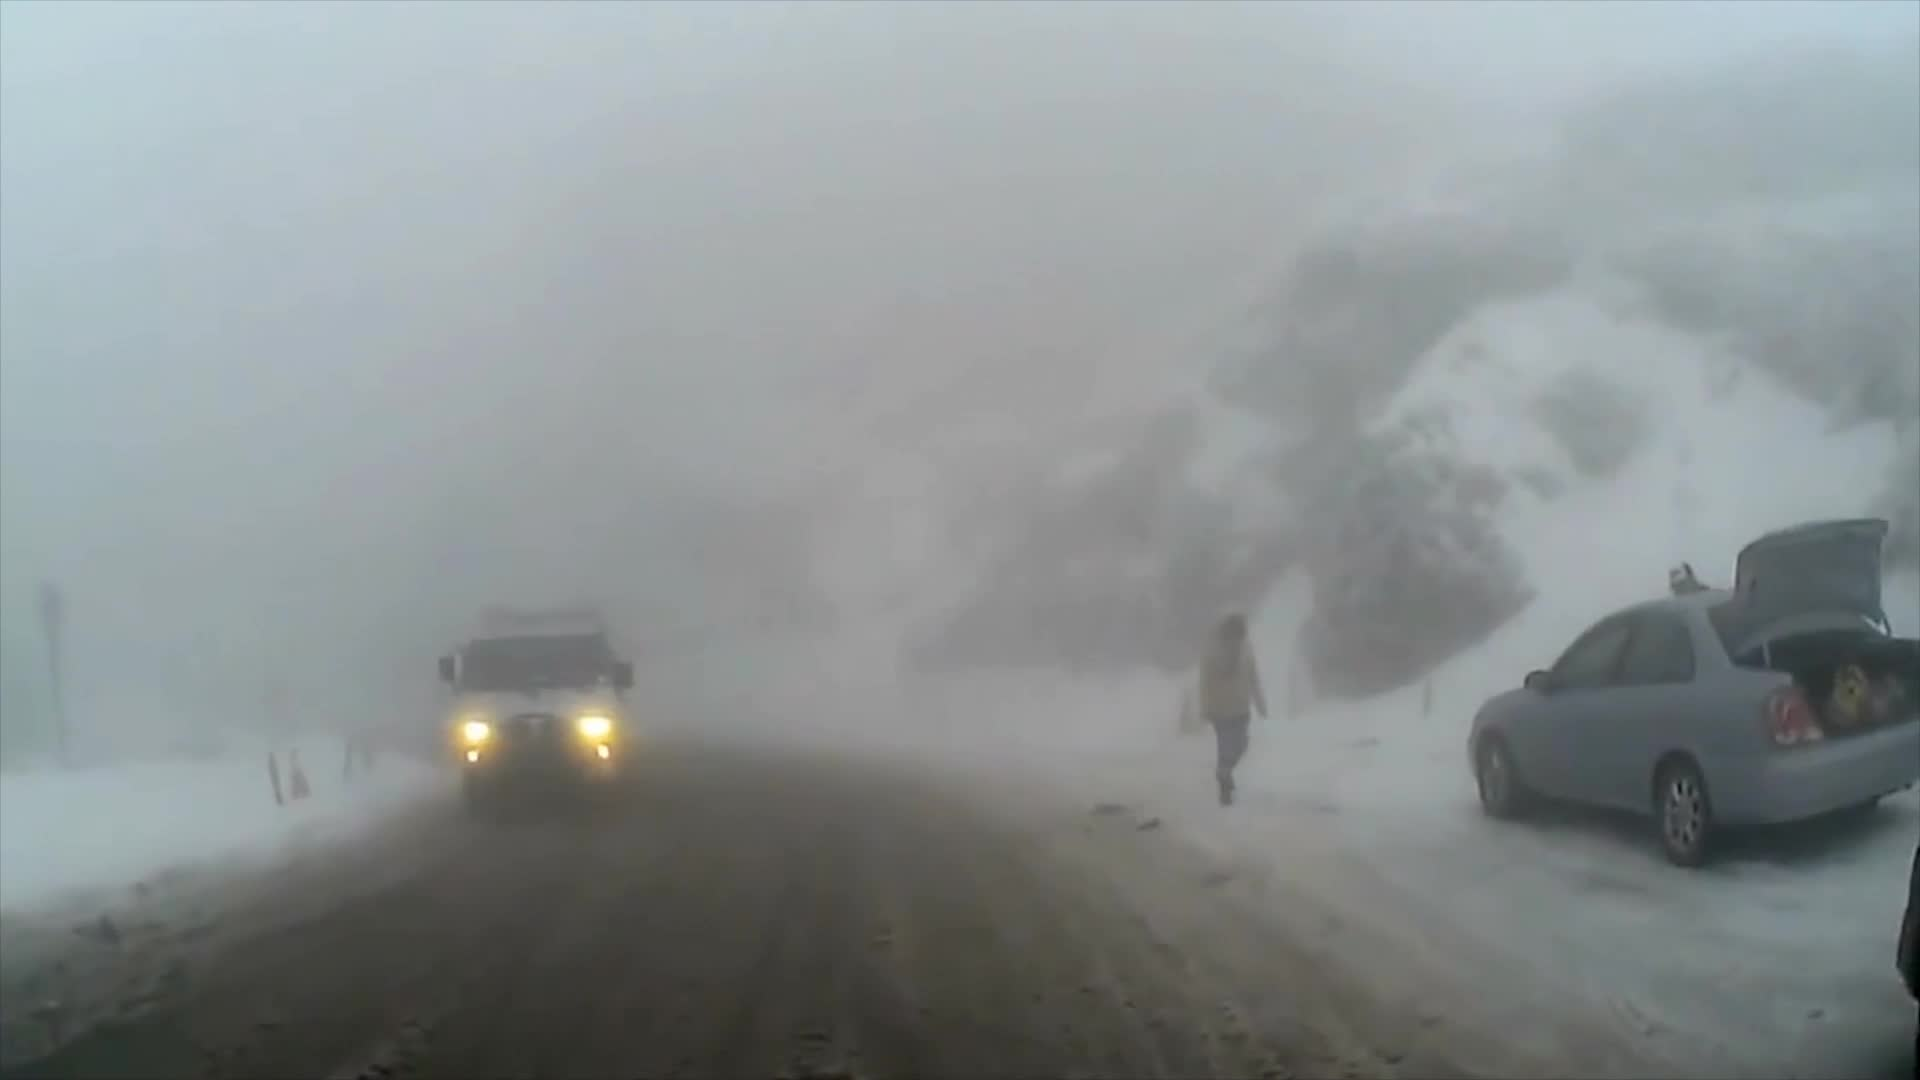pedestrian: (1192, 602, 1271, 801)
vehicle: (1464, 507, 1920, 865), (433, 602, 636, 819)
